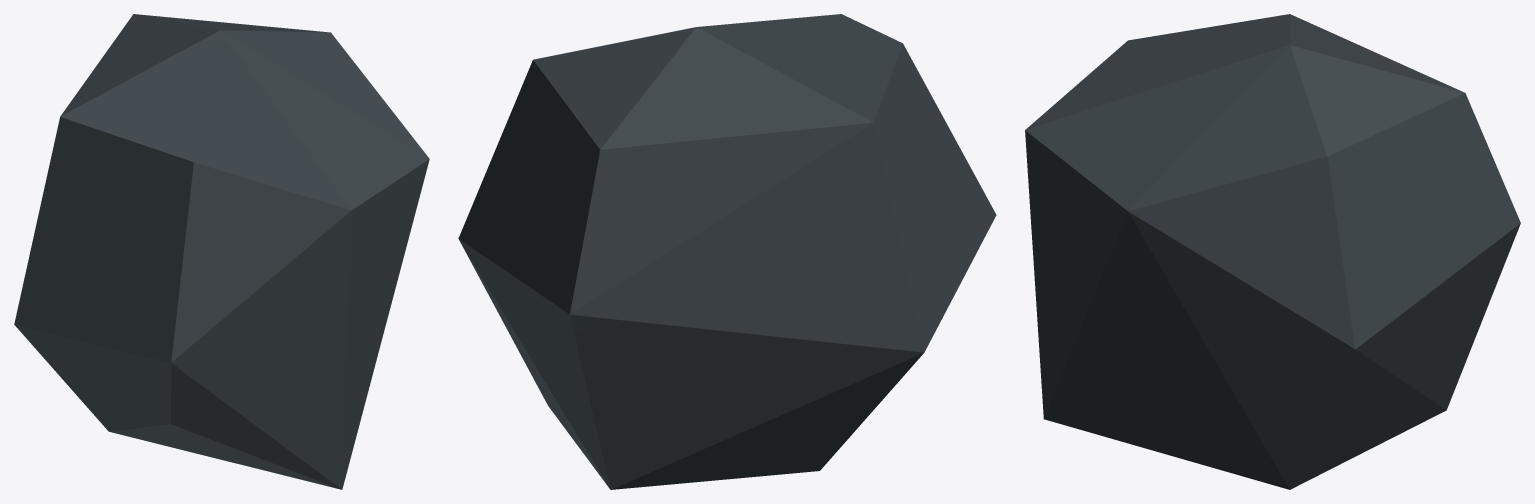
The model's file is Rock-A15.fbx.
3 views of the same model, side by side, from view 1: azimuth 30°, elevation 25°; view 2: azimuth 150°, elevation 25°; view 3: azimuth 270°, elevation 25° (orthographic). The views are drawn at different scales.
Parts seen in each view (by area): view 1: Rock-A15; view 2: Rock-A15; view 3: Rock-A15.
Part boxes in pixels (bbox=[...]): Rock-A15: bbox=[14, 14, 429, 489]; Rock-A15: bbox=[458, 14, 996, 489]; Rock-A15: bbox=[1025, 14, 1520, 489].
Bounding box in the file's own units: 52.8 × 48.66 × 57.74.
